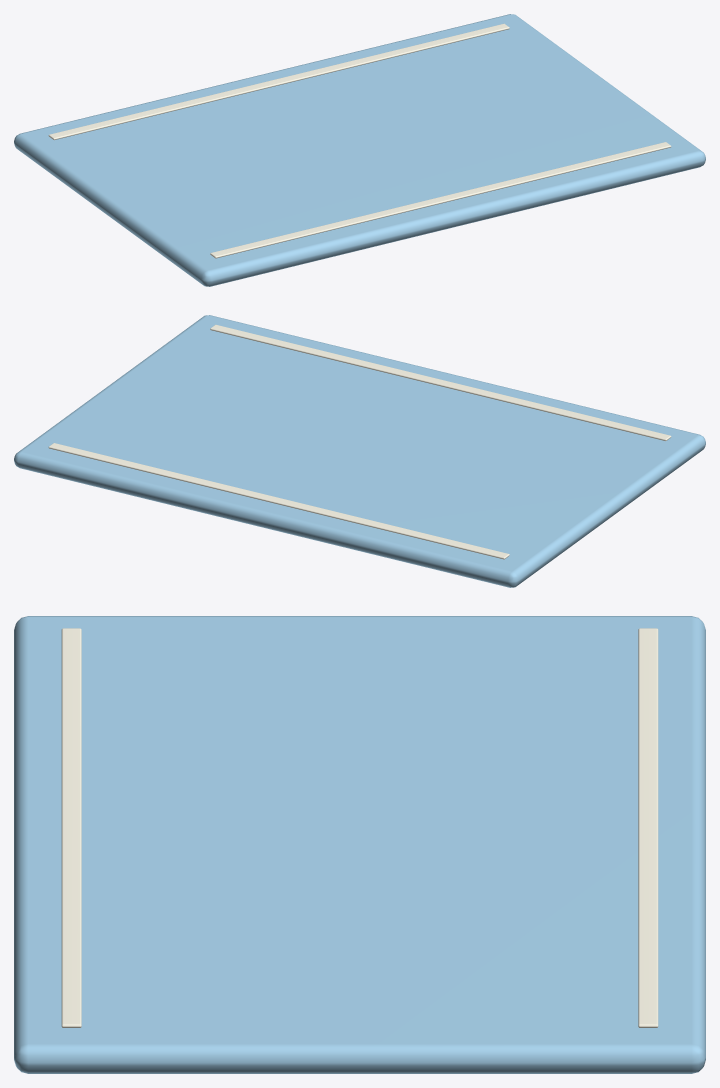
The model's file is carpetSmall.glb.
3 renders of one model, top to bottom at view 1: azimuth 30°, elevation 25°; view 2: azimuth 150°, elevation 25°; view 3: azimuth 270°, elevation 25°, orthographic. The views are drawn at different scales.
Parts seen in each view (by area): view 1: Rug, Rug border, Rug border.001; view 2: Rug, Rug border, Rug border.001; view 3: Rug, Rug border, Rug border.001.
Boxes of the visible parts, <box> form: Rug: <box>14,14,705,286</box>; Rug border: <box>210,142,671,258</box>; Rug border.001: <box>48,23,509,140</box>; Rug: <box>14,315,705,587</box>; Rug border: <box>210,324,671,441</box>; Rug border.001: <box>48,443,509,559</box>; Rug: <box>14,616,705,1073</box>; Rug border: <box>61,628,81,1027</box>; Rug border.001: <box>638,628,658,1027</box>.
Bounding box in the file's own units: 1.8 × 0.063 × 1.2.
